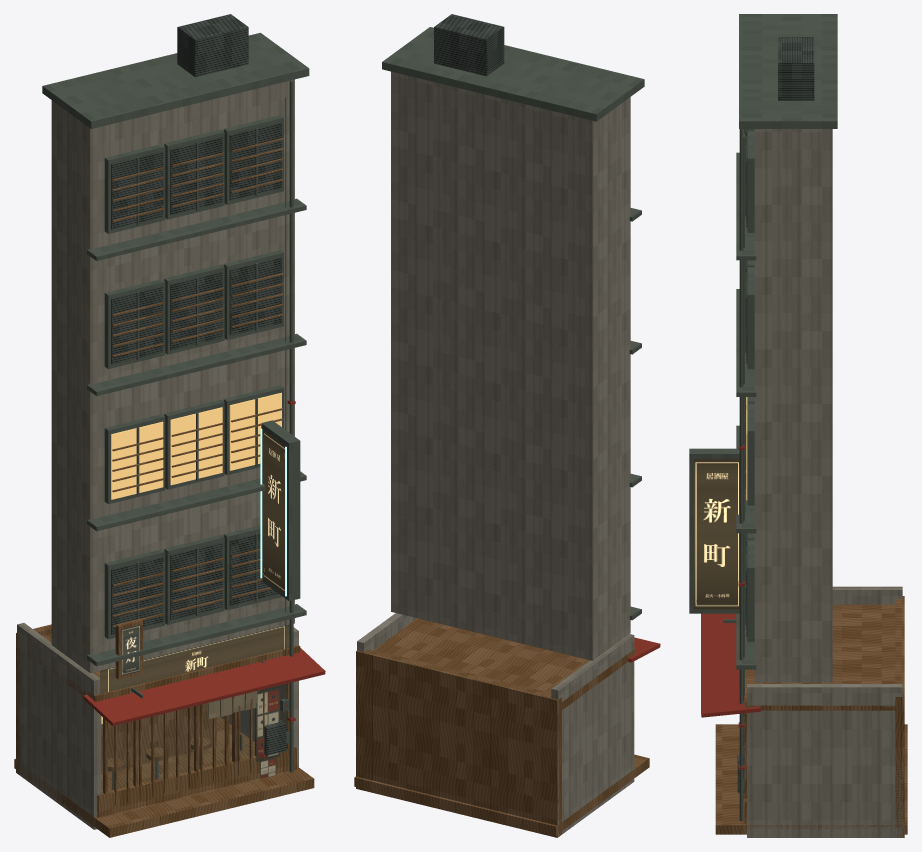
File: yoto-izakaya.glb
3 views of the same model, side by side, from view 1: azimuth 30°, elevation 25°; view 2: azimuth 150°, elevation 25°; view 3: azimuth 270°, elevation 25° (orthographic). The views are drawn at different scales.
Visible parts, largest first — view 1: Existing Yoto finish (×12), Yoto timber; view 2: Existing Yoto finish (×3), Yoto timber; view 3: Existing Yoto finish (×5), Yoto timber.
Part boxes in pixels (x1,y1,x2,y2): Existing Yoto finish (×12): (17,14,325,829); Yoto timber: (14,138,314,837); Existing Yoto finish (×3): (357,14,644,836); Yoto timber: (354,618,649,837); Existing Yoto finish (×5): (689,14,902,837); Yoto timber: (715,129,907,837).
Bounding box in the file's own units: 4.9 × 16.1 × 4.21.
Materials: 16 (11 with a texture image).
